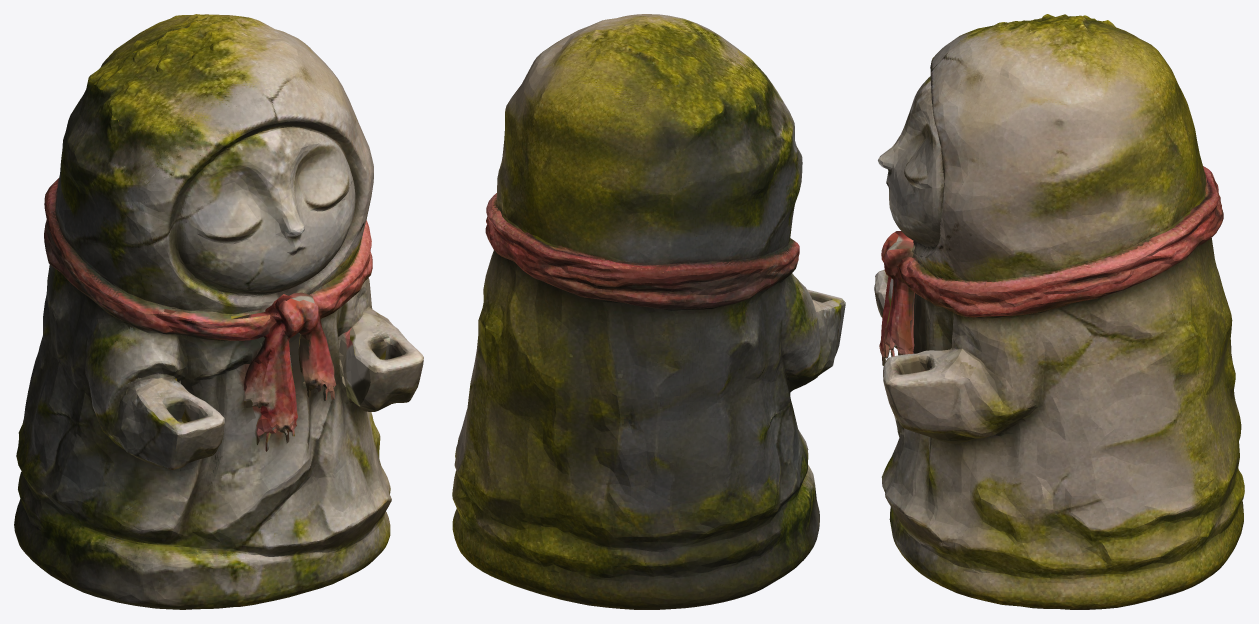
Rendered from guardian_stone.glb.
3 renders of one model, left to right at view 1: azimuth 30°, elevation 25°; view 2: azimuth 150°, elevation 25°; view 3: azimuth 270°, elevation 25°, orthographic. The views are drawn at different scales.
Parts seen in each view (by area): view 1: temp_mesh.ply; view 2: temp_mesh.ply; view 3: temp_mesh.ply.
Boxes of the visible parts, <box> form: temp_mesh.ply: <box>14,14,423,609</box>; temp_mesh.ply: <box>452,14,845,609</box>; temp_mesh.ply: <box>874,14,1244,609</box>.
Size of the model in its own units: 1.28 by 1.96 by 1.27.
Materials: 1 (1 with a texture image).
